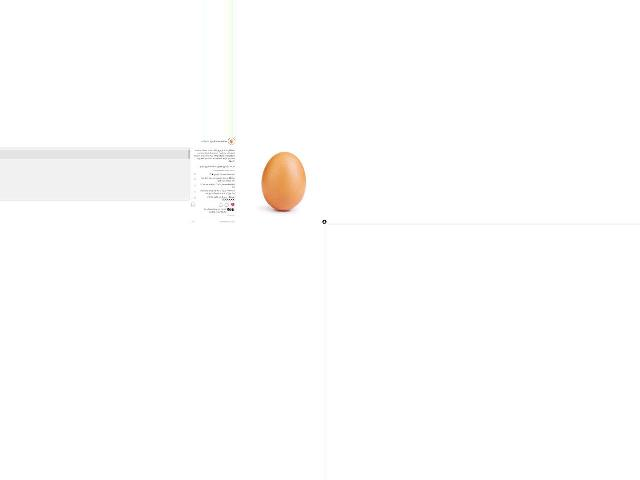egg: (261, 152, 305, 210)
